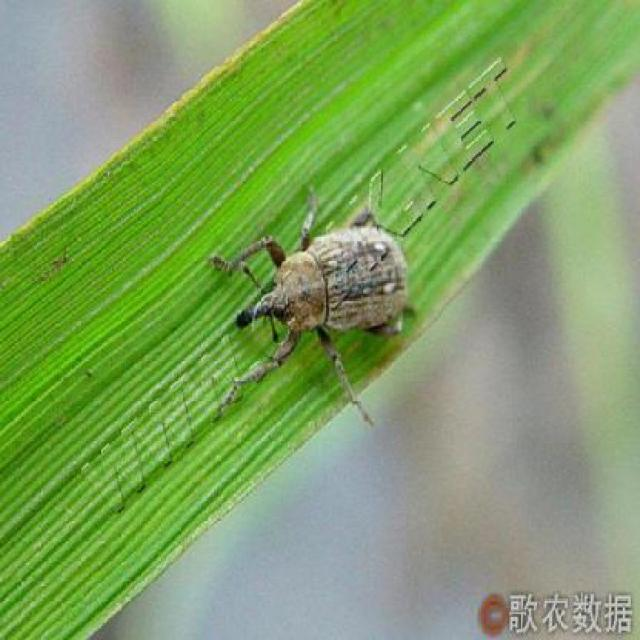rice-bug: (224, 200, 422, 395)
